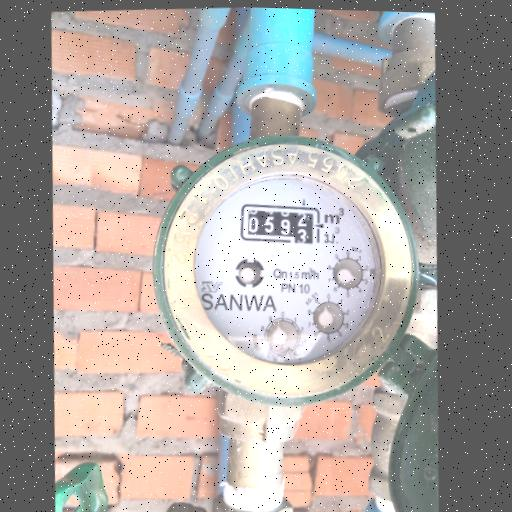0: (246, 209, 263, 236)
2: (291, 210, 314, 244)
5: (260, 209, 279, 237)
9: (276, 210, 295, 237)
border_water_meter_number: (236, 199, 326, 248)
